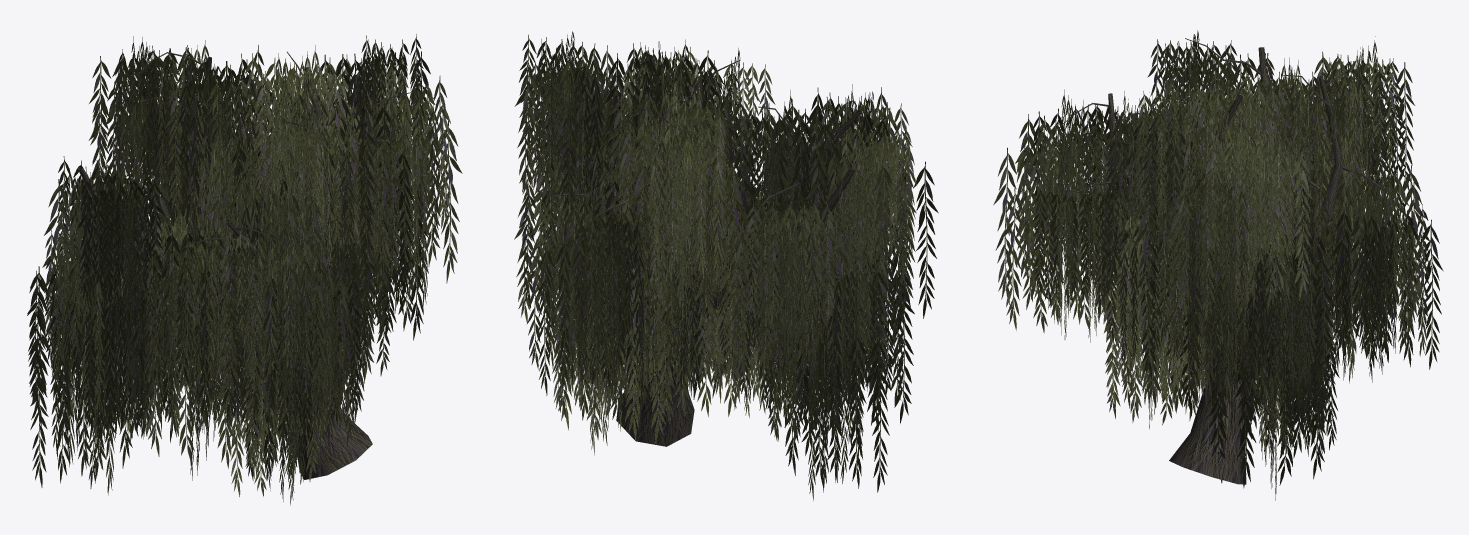
The model's file is nature-black-weeping-willow.glb.
The picture shows the model from 3 angles, left to right: view 1: azimuth 30°, elevation 25°; view 2: azimuth 150°, elevation 25°; view 3: azimuth 270°, elevation 25°; orthographic projection. The views are drawn at different scales.
Parts seen in each view (by area): view 1: nature-black-weeping-willow; view 2: nature-black-weeping-willow; view 3: nature-black-weeping-willow.
Boxes of the visible parts, x1,y1,x2,y2 form: nature-black-weeping-willow: [27, 34, 462, 505]; nature-black-weeping-willow: [514, 31, 938, 500]; nature-black-weeping-willow: [993, 30, 1443, 500].
Bounding box in the file's own units: 8.49 × 7.77 × 8.31.
Materials: 2 (2 with a texture image).
